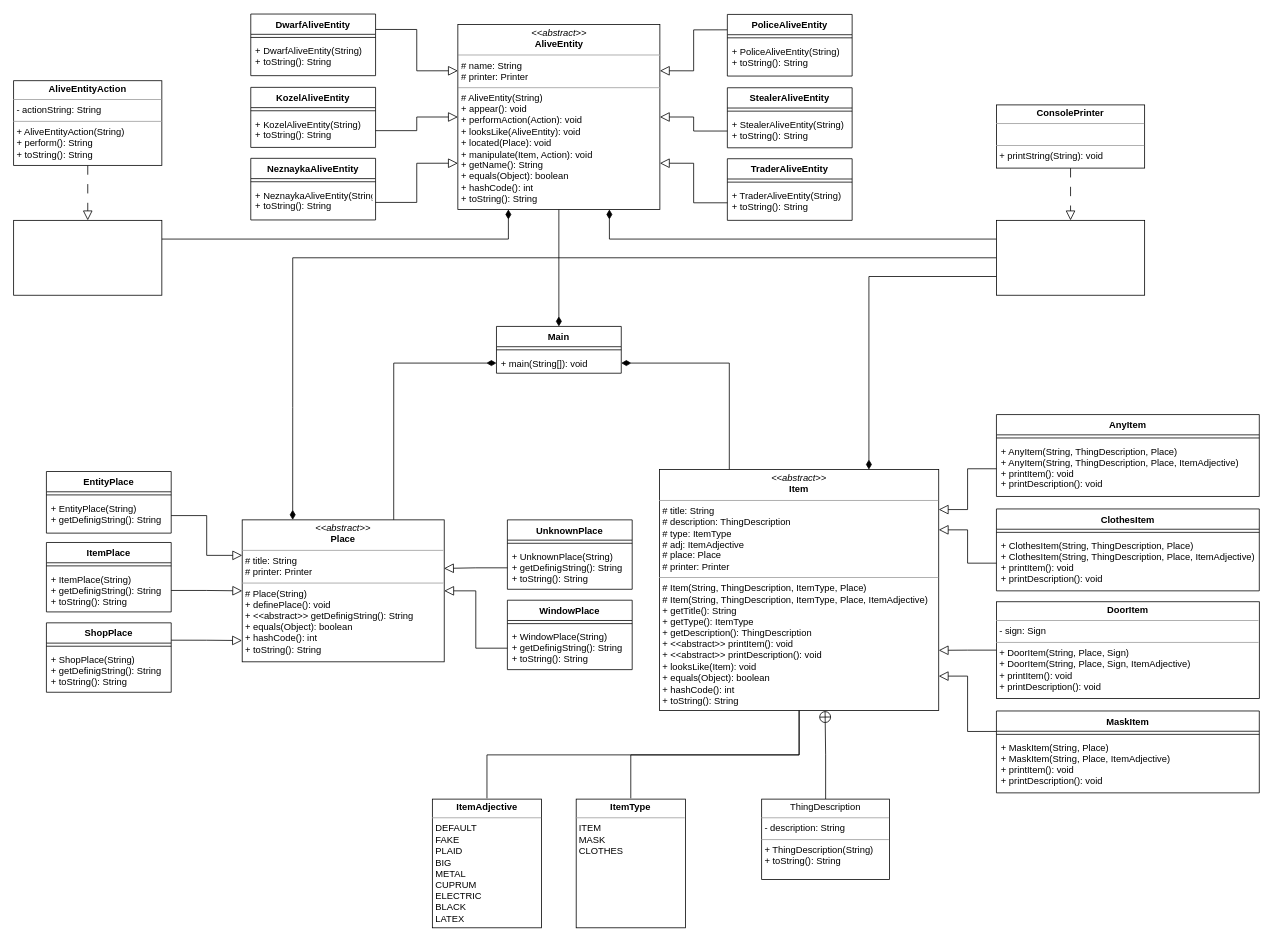
Some shapes in this 1273 by 941 pixel diagram are drawn without their labels. The centre of each missing label's shape, as x and y in pixels:
<<Interface>> ActionInterface + perform(): String: the point at 87,257
<<Interface>> PrinterInterface + printString(String): void: the point at 1070,257
